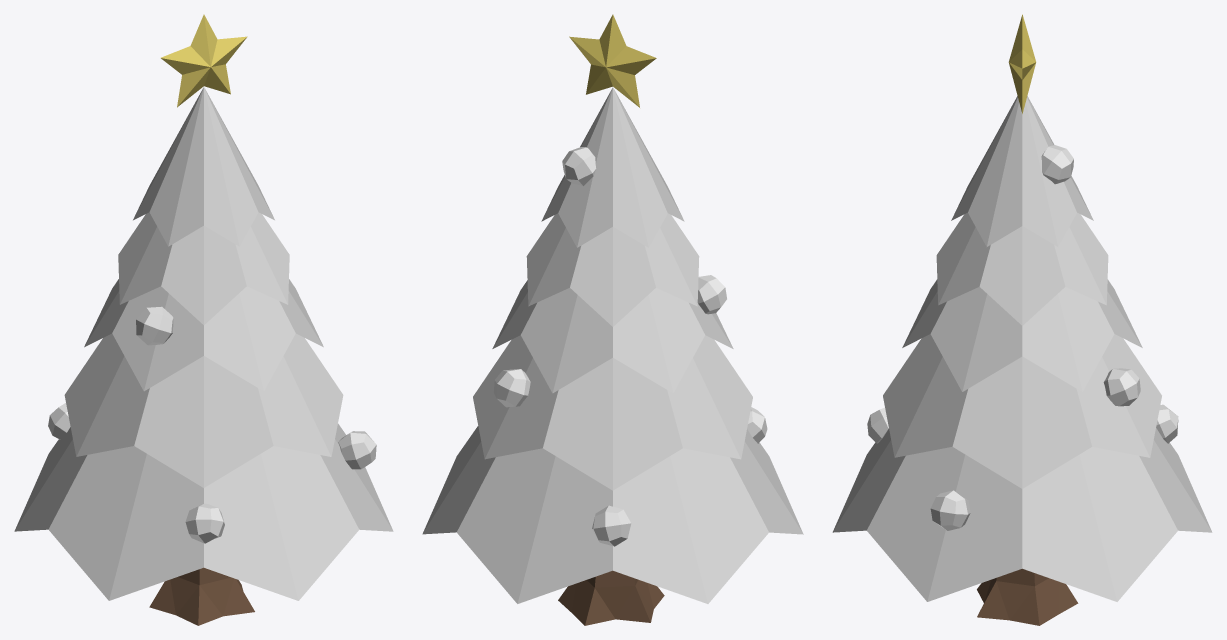
The model's file is tree-christmas.fbx.
3 renders of one model, left to right at view 1: azimuth 30°, elevation 25°; view 2: azimuth 150°, elevation 25°; view 3: azimuth 270°, elevation 25°, orthographic.
Parts seen in each view (by area): view 1: tree-christmas; view 2: tree-christmas; view 3: tree-christmas.
Part boxes in pixels (box(x1,y1,x2,y2)): tree-christmas: box(14, 14, 393, 625); tree-christmas: box(422, 14, 803, 625); tree-christmas: box(832, 14, 1212, 625).
Bounding box in the file's own units: 3.07 × 3.24 × 5.55.
